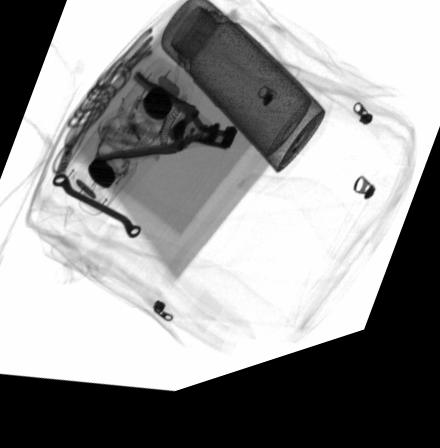Pliers: (90, 79, 239, 174)
Wrench: (52, 177, 141, 247)
